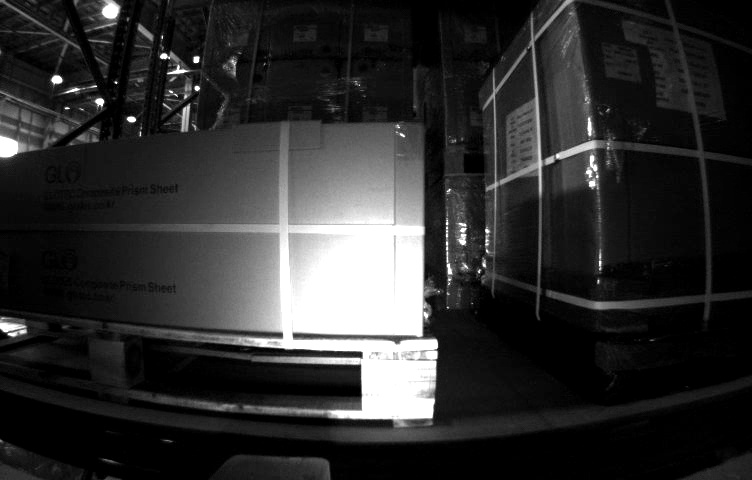True Barcode: (604, 41, 639, 79)
